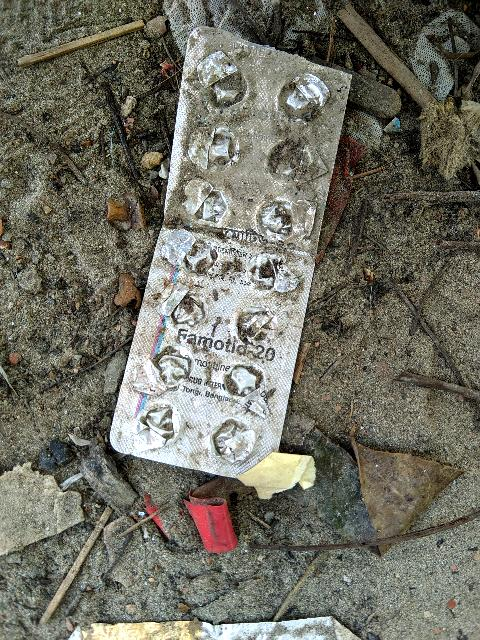medicine: (122, 17, 365, 485)
